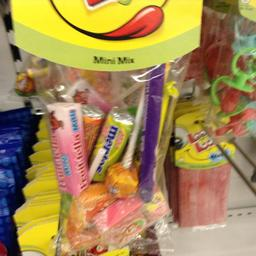candy: (14, 1, 186, 208), (174, 113, 240, 230), (216, 4, 255, 130)
